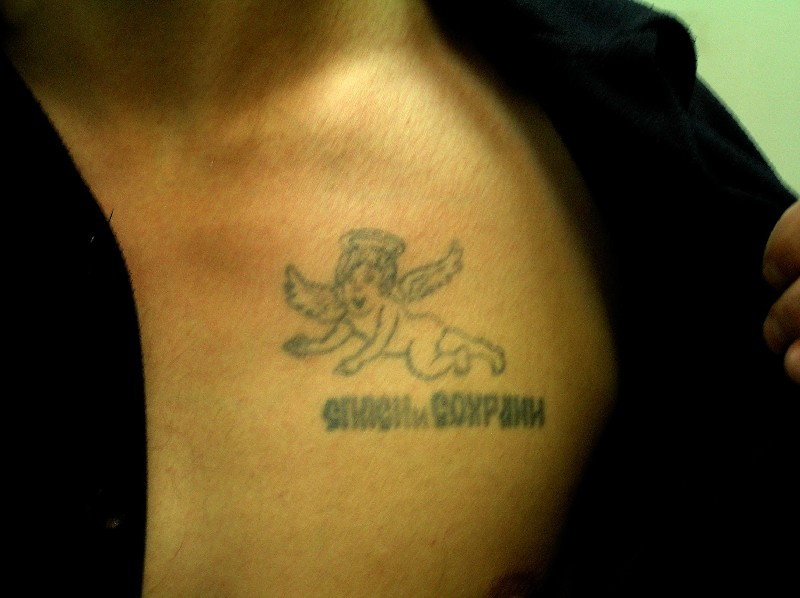tatu1_angel: (276, 223, 527, 382)
tatu3_bukva: (316, 386, 558, 436)
